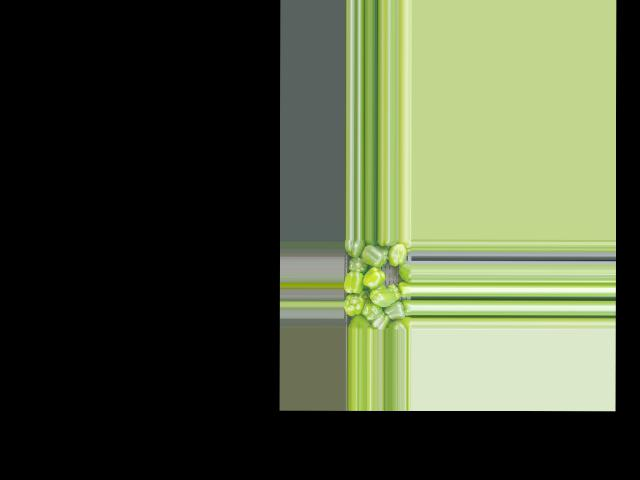bell_pepper: (353, 315, 372, 330)
